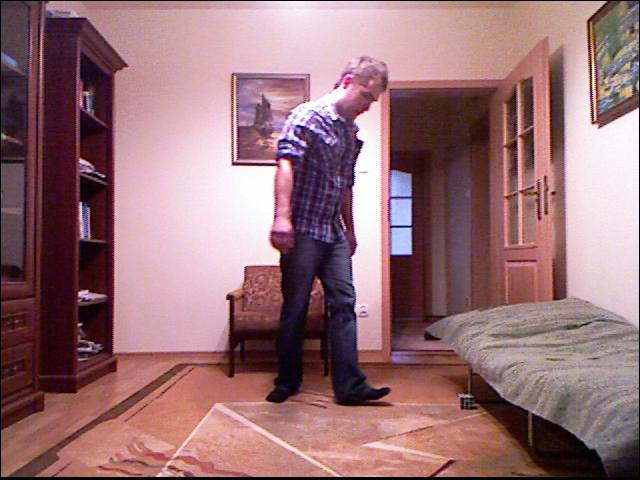walking: (261, 34, 399, 415)
